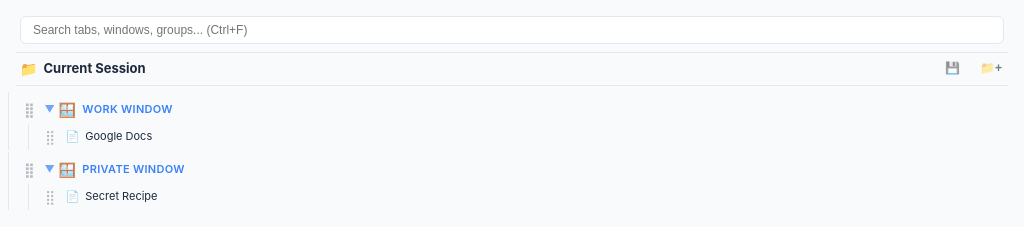
Test: Search Functionality › filters based on URL
Type "recipes.com" into the field with placeholder "Search tabs, windows, groups... (Ctrl+F)". click: [512, 30]
box: left=20, top=16, right=1004, bottom=44
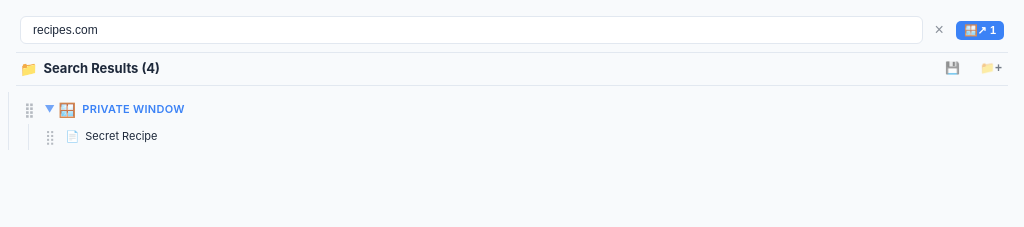
Check: the text "Secret Recipe" is shown, box left=85, top=129, right=158, bottom=143
Check: the text "Google Docs" is gone
